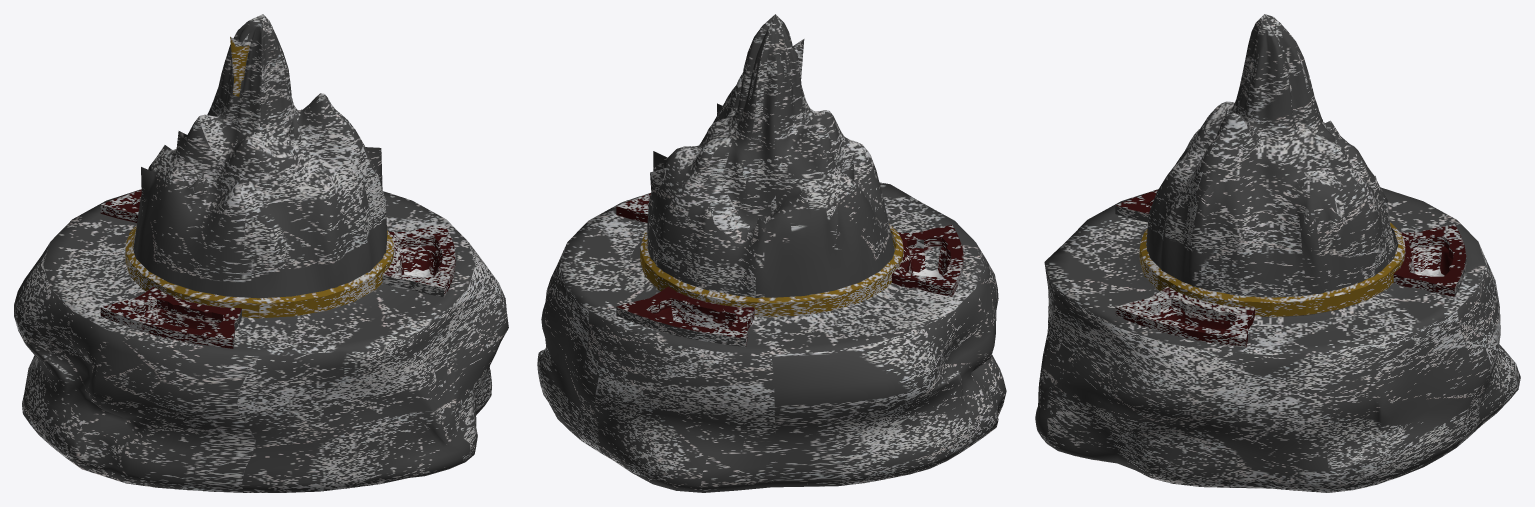
Rendered from TotemRE1.fbx.
3 renders of one model, left to right at view 1: azimuth 30°, elevation 25°; view 2: azimuth 150°, elevation 25°; view 3: azimuth 270°, elevation 25°, orthographic. The views are drawn at different scales.
Parts seen in each view (by area): view 1: pCylinder1; view 2: pCylinder1; view 3: pCylinder1.
Part boxes in pixels (x1,y1,x2,y2): pCylinder1: (14,14,508,492); pCylinder1: (537,14,1006,492); pCylinder1: (1035,14,1520,492).
Bounding box in the file's own units: 2.59 × 2.37 × 2.68.
Materials: 1 (1 with a texture image).
